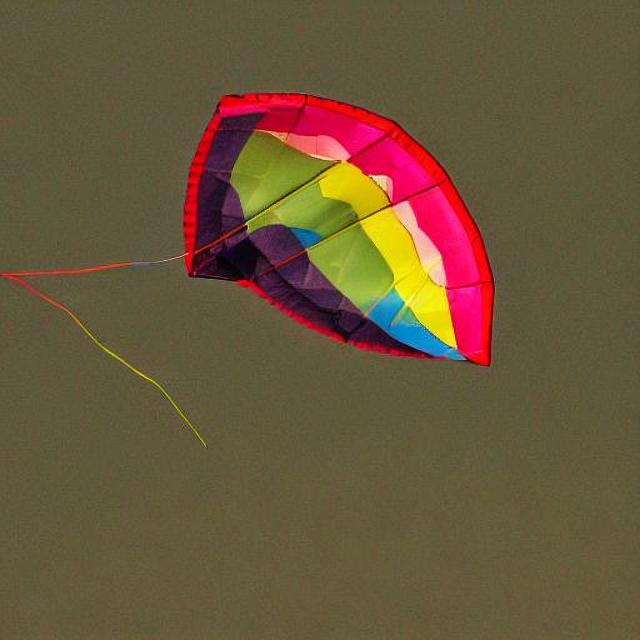floating object: (170, 93, 492, 369), (7, 257, 210, 447)
